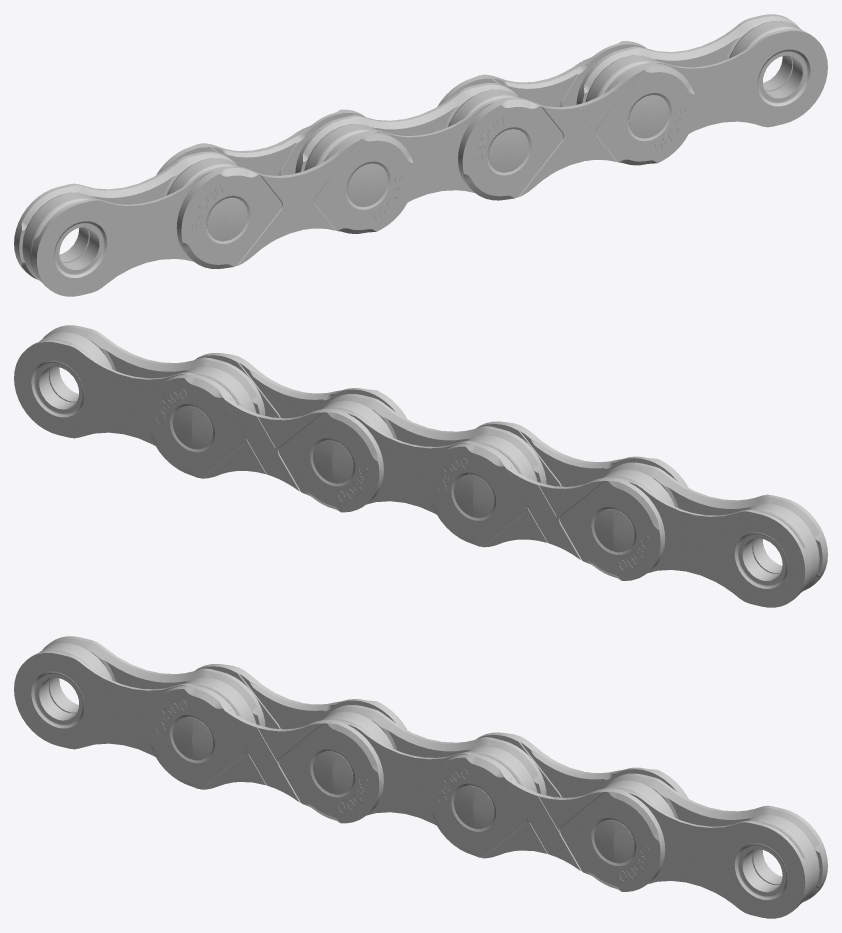
Rendered from Se500-Gray.glb.
3 renders of one model, top to bottom at view 1: azimuth 30°, elevation 25°; view 2: azimuth 150°, elevation 25°; view 3: azimuth 330°, elevation 25°, orthographic.
Parts seen in each view (by area): view 1: 10SP(行銷需求)_body1-Gray2.PBR (×4), HG-401-RLP(行銷需求)_body1 (×6), HG-401-RL(行銷需求)_body1 (×6), 圓鉚軸(行銷)_body1 (×4); view 2: 10SP(行銷需求)_body1-Gray2.PBR (×4), HG-401-RLP(行銷需求)_body1 (×6), HG-401-RL(行銷需求)_body1 (×6), 圓鉚軸(行銷)_body1 (×4); view 3: 10SP(行銷需求)_body1-Gray2.PBR (×4), HG-401-RLP(行銷需求)_body1 (×6), HG-401-RL(行銷需求)_body1 (×6), 圓鉚軸(行銷)_body1 (×4).
Part boxes in pixels (bbox=[...]): 10SP(行銷需求)_body1-Gray2.PBR (×4): bbox=[156, 41, 696, 268]; HG-401-RLP(行銷需求)_body1 (×6): bbox=[14, 14, 827, 296]; HG-401-RL(行銷需求)_body1 (×6): bbox=[22, 21, 802, 281]; 圓鉚軸(行銷)_body1 (×4): bbox=[207, 95, 669, 241]; 10SP(行銷需求)_body1-Gray2.PBR (×4): bbox=[145, 353, 688, 580]; HG-401-RLP(行銷需求)_body1 (×6): bbox=[14, 325, 827, 607]; HG-401-RL(行銷需求)_body1 (×6): bbox=[39, 332, 819, 592]; 圓鉚軸(行銷)_body1 (×4): bbox=[172, 406, 634, 552]; 10SP(行銷需求)_body1-Gray2.PBR (×4): bbox=[145, 664, 688, 891]; HG-401-RLP(行銷需求)_body1 (×6): bbox=[14, 636, 827, 918]; HG-401-RL(行銷需求)_body1 (×6): bbox=[39, 643, 819, 903]; 圓鉚軸(行銷)_body1 (×4): bbox=[172, 717, 634, 863].
Size of the model in its own units: 7.12 by 0.84 by 0.575.
2 materials, 2 textured.
